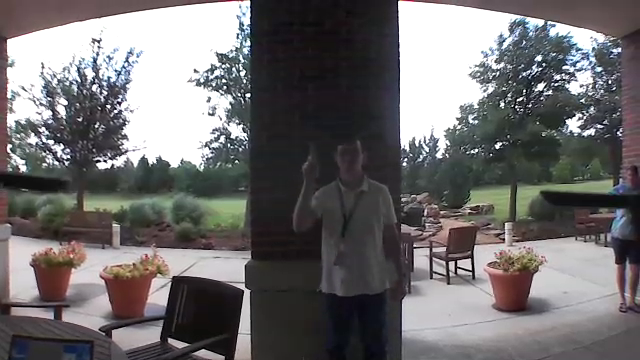up: (297, 139, 324, 181)
